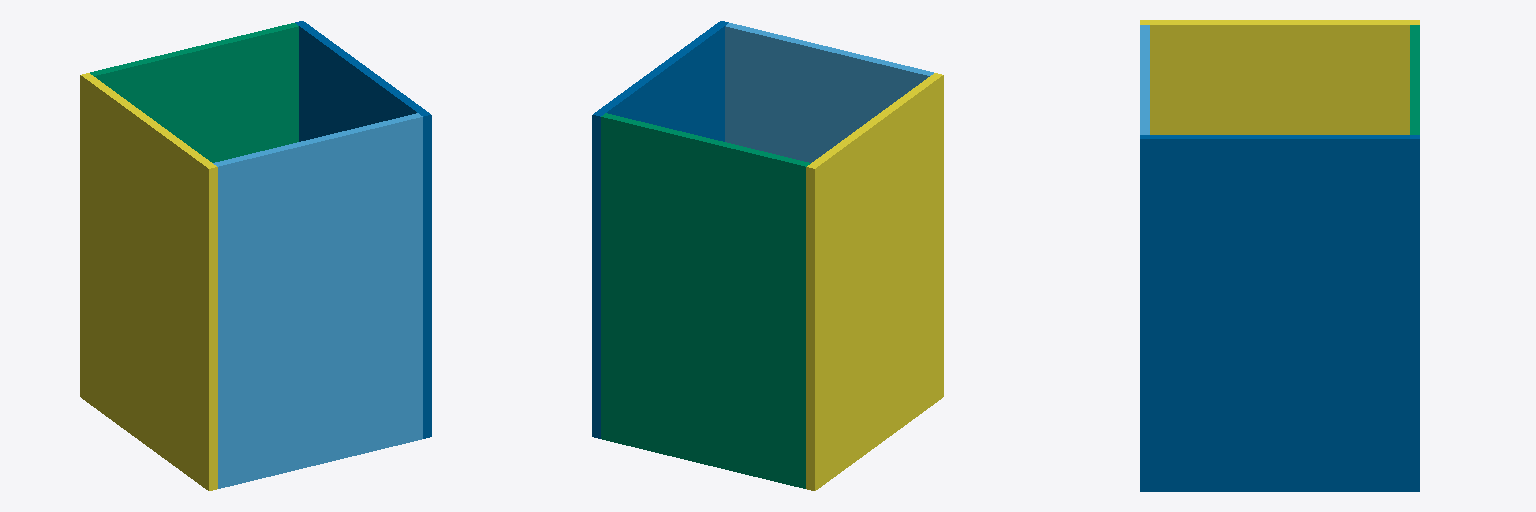
URDF robot description (cup_model):
<robot name="cup_model">
  <material name="Glass">
    <color rgba="0.698, 0.706, 0.702, 0.4"/>
  </material>

  <link name="drawer_bottom_plate1">
    <inertial>
      <mass value="0.05" />
      <origin xyz="0 0 0.0" />
      <inertia  ixx="0.01" ixy="0.0"  ixz="0.0"  iyy="0.01"  iyz="0.0"  izz="0.01" />
    </inertial>
    <visual>
      <origin xyz="0 0 0" rpy="0 0 0" />
      <geometry>
        <box size="0.12 0.12 0.005"/>
      </geometry>
      <material name="Glass"/>
    </visual>
    <collision>
      <origin xyz="0 0 0" rpy="0 0 0" />
      <geometry>
        <box size="0.12 0.12 0.005"/>
      </geometry>
    </collision>
    <contact>
      <restitution value="0.7"/>
      <lateral_friction value="0.5"/>
      <rolling_friction value="0.1"/>
      <spinning_friction value="9.119138030817657e-08"/>
    </contact>
  </link>
  <link name="drawer_left_plate1">
    <inertial>
      <mass value="0.05" />
      <origin xyz="0 0 0.0" />
      <inertia  ixx="0.01" ixy="0.0"  ixz="0.0"  iyy="0.01"  iyz="0.0"  izz="0.01" />
    </inertial>
    <visual>
      <origin xyz="0 -0.0625 0.0875" rpy="0 0 0" />
      <geometry>
        <box size="0.12 0.005 0.18"/>
      </geometry>
      <material name="Glass"/>
    </visual>
    <collision>
      <origin xyz="0 -0.0625 0.0875" rpy="0 0 0" />
      <geometry>
        <box size="0.12 0.005 0.18"/>
      </geometry>
    </collision>
    <contact>
      <restitution value="0.7"/>
      <lateral_friction value="0.5"/>
      <rolling_friction value="0.1"/>
      <spinning_friction value="9.119138030817657e-08"/>
    </contact>
  </link>
  <link name="drawer_right_plate1">
    <inertial>
      <mass value="0.05" />
      <origin xyz="0 0 0.0" />
      <inertia  ixx="0.01" ixy="0.0"  ixz="0.0"  iyy="0.01"  iyz="0.0"  izz="0.01" />
    </inertial>
    <visual>
      <origin xyz="0 0.0625 0.0875" rpy="0 0 0" />
      <geometry>
        <box size="0.12 0.005 0.18"/>
      </geometry>
      <material name="Glass"/>
    </visual>
    <collision>
      <origin xyz="0 0.0625 0.0875" rpy="0 0 0" />
      <geometry>
        <box size="0.12 0.005 0.18"/>
      </geometry>
    </collision>
    <contact>
      <restitution value="0.7"/>
      <lateral_friction value="0.5"/>
      <rolling_friction value="0.1"/>
      <spinning_friction value="9.119138030817657e-08"/>
    </contact>
  </link>
  <link name="drawer_back_plate1">
    <inertial>
      <mass value="0.05" />
      <origin xyz="0 0 0.0" />
      <inertia  ixx="0.01" ixy="0.0"  ixz="0.0"  iyy="0.01"  iyz="0.0"  izz="0.01" />
    </inertial>
    <visual>
      <origin xyz="-0.0625 0 0.0875" rpy="0 0 0" />
      <geometry>
        <box size="0.005 0.13 0.18"/>
      </geometry>
      <material name="Glass"/>
    </visual>
    <collision>
      <origin xyz="-0.0625 0 0.0875" rpy="0 0 0" />
      <geometry>
        <box size="0.005 0.13 0.18"/>
      </geometry>
    </collision>
    <contact>
      <restitution value="0.7"/>
      <lateral_friction value="0.5"/>
      <rolling_friction value="0.1"/>
      <spinning_friction value="9.119138030817657e-08"/>
    </contact>
  </link>
  <link name="drawer_front_plate1">
    <inertial>
      <mass value="0.05" />
      <origin xyz="0 0 0.0" />
      <inertia  ixx="0.01" ixy="0.0"  ixz="0.0"  iyy="0.01"  iyz="0.0"  izz="0.01" />
    </inertial>
    <visual>
      <origin xyz="0.0625 0 0.0875" rpy="0 0 0" />
      <geometry>
        <box size="0.005 0.13 0.18"/>
      </geometry>
      <material name="Glass"/>
    </visual>
    <collision>
      <origin xyz="0.0625 0 0.0875" rpy="0 0 0" />
      <geometry>
        <box size="0.005 0.13 0.18"/>
      </geometry>
    </collision>
    <contact>
      <restitution value="0.7"/>
      <lateral_friction value="0.5"/>
      <rolling_friction value="0.1"/>
      <spinning_friction value="9.119138030817657e-08"/>
    </contact>
  </link>

  <joint name="drawer_left1" type="fixed">
    <parent link="drawer_bottom_plate1"/>
    <child link="drawer_left_plate1"/>
    <origin xyz="0 0 0"/>
  </joint>
  <joint name="drawer_right1" type="fixed">
    <parent link="drawer_bottom_plate1"/>
    <child link="drawer_right_plate1"/>
    <origin xyz="0 0 0"/>
  </joint>
  <joint name="drawer_back1" type="fixed">
    <parent link="drawer_bottom_plate1"/>
    <child link="drawer_back_plate1"/>
    <origin xyz="0 0 0"/>
  </joint>
  <joint name="drawer_front1" type="fixed">
    <parent link="drawer_bottom_plate1"/>
    <child link="drawer_front_plate1"/>
    <origin xyz="0 0 0"/>
  </joint>

</robot>

--- Render facts (derived) ---
3 views of the same robot in one strip: view 1: azimuth 30°, elevation 25°; view 2: azimuth 150°, elevation 25°; view 3: azimuth 270°, elevation 25° (orthographic).
Model cup_model with 5 links and 4 joints (4 fixed), rooted at drawer_bottom_plate1, posed every joint at zero.
Links seen in each view (by area): view 1: drawer_left_plate1, drawer_back_plate1, drawer_right_plate1, drawer_front_plate1; view 2: drawer_right_plate1, drawer_back_plate1, drawer_left_plate1, drawer_front_plate1; view 3: drawer_front_plate1, drawer_back_plate1, drawer_left_plate1, drawer_right_plate1.
Boxes of the visible links, box(x1,y1,x2,y2) form: drawer_left_plate1: box(213, 113, 422, 488); drawer_back_plate1: box(80, 73, 217, 490); drawer_right_plate1: box(90, 23, 298, 162); drawer_front_plate1: box(295, 21, 431, 438); drawer_right_plate1: box(601, 113, 810, 488); drawer_back_plate1: box(806, 73, 943, 490); drawer_left_plate1: box(725, 23, 933, 162); drawer_front_plate1: box(592, 21, 728, 438); drawer_front_plate1: box(1140, 135, 1419, 491); drawer_back_plate1: box(1140, 20, 1419, 134); drawer_left_plate1: box(1140, 25, 1149, 134); drawer_right_plate1: box(1410, 25, 1419, 134).
Bounding box of the posed robot: 0.13 × 0.13 × 0.18 m (x, y, z).
Geometry: primitives only (box / cylinder / sphere), no mesh files.
